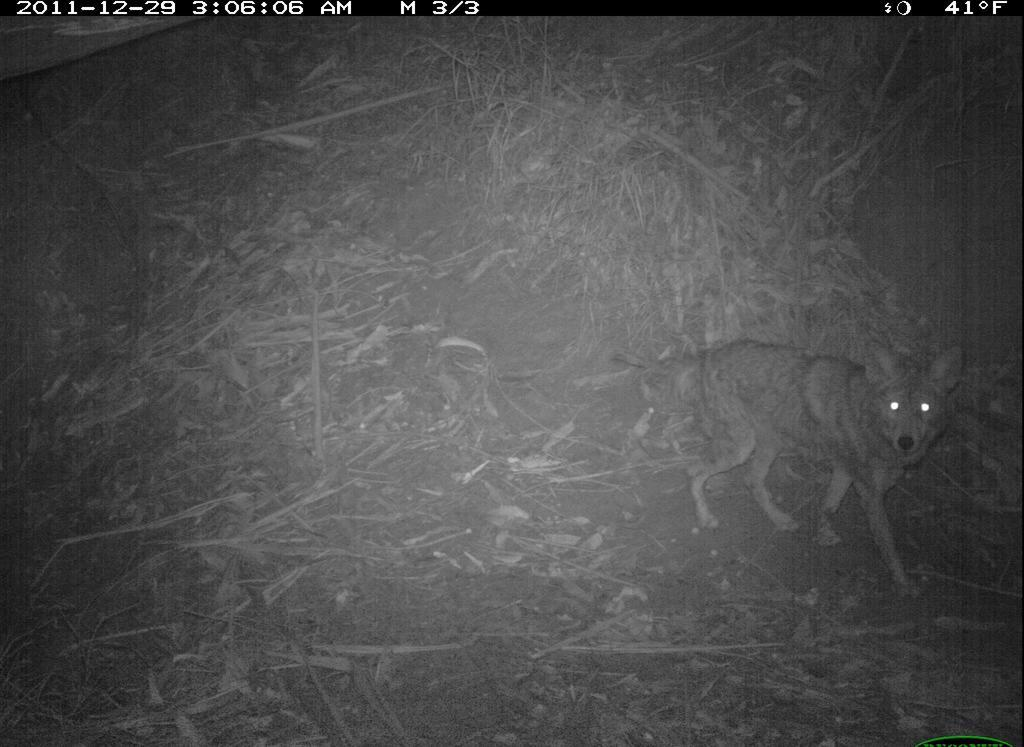coyote: (632, 336, 981, 598)
